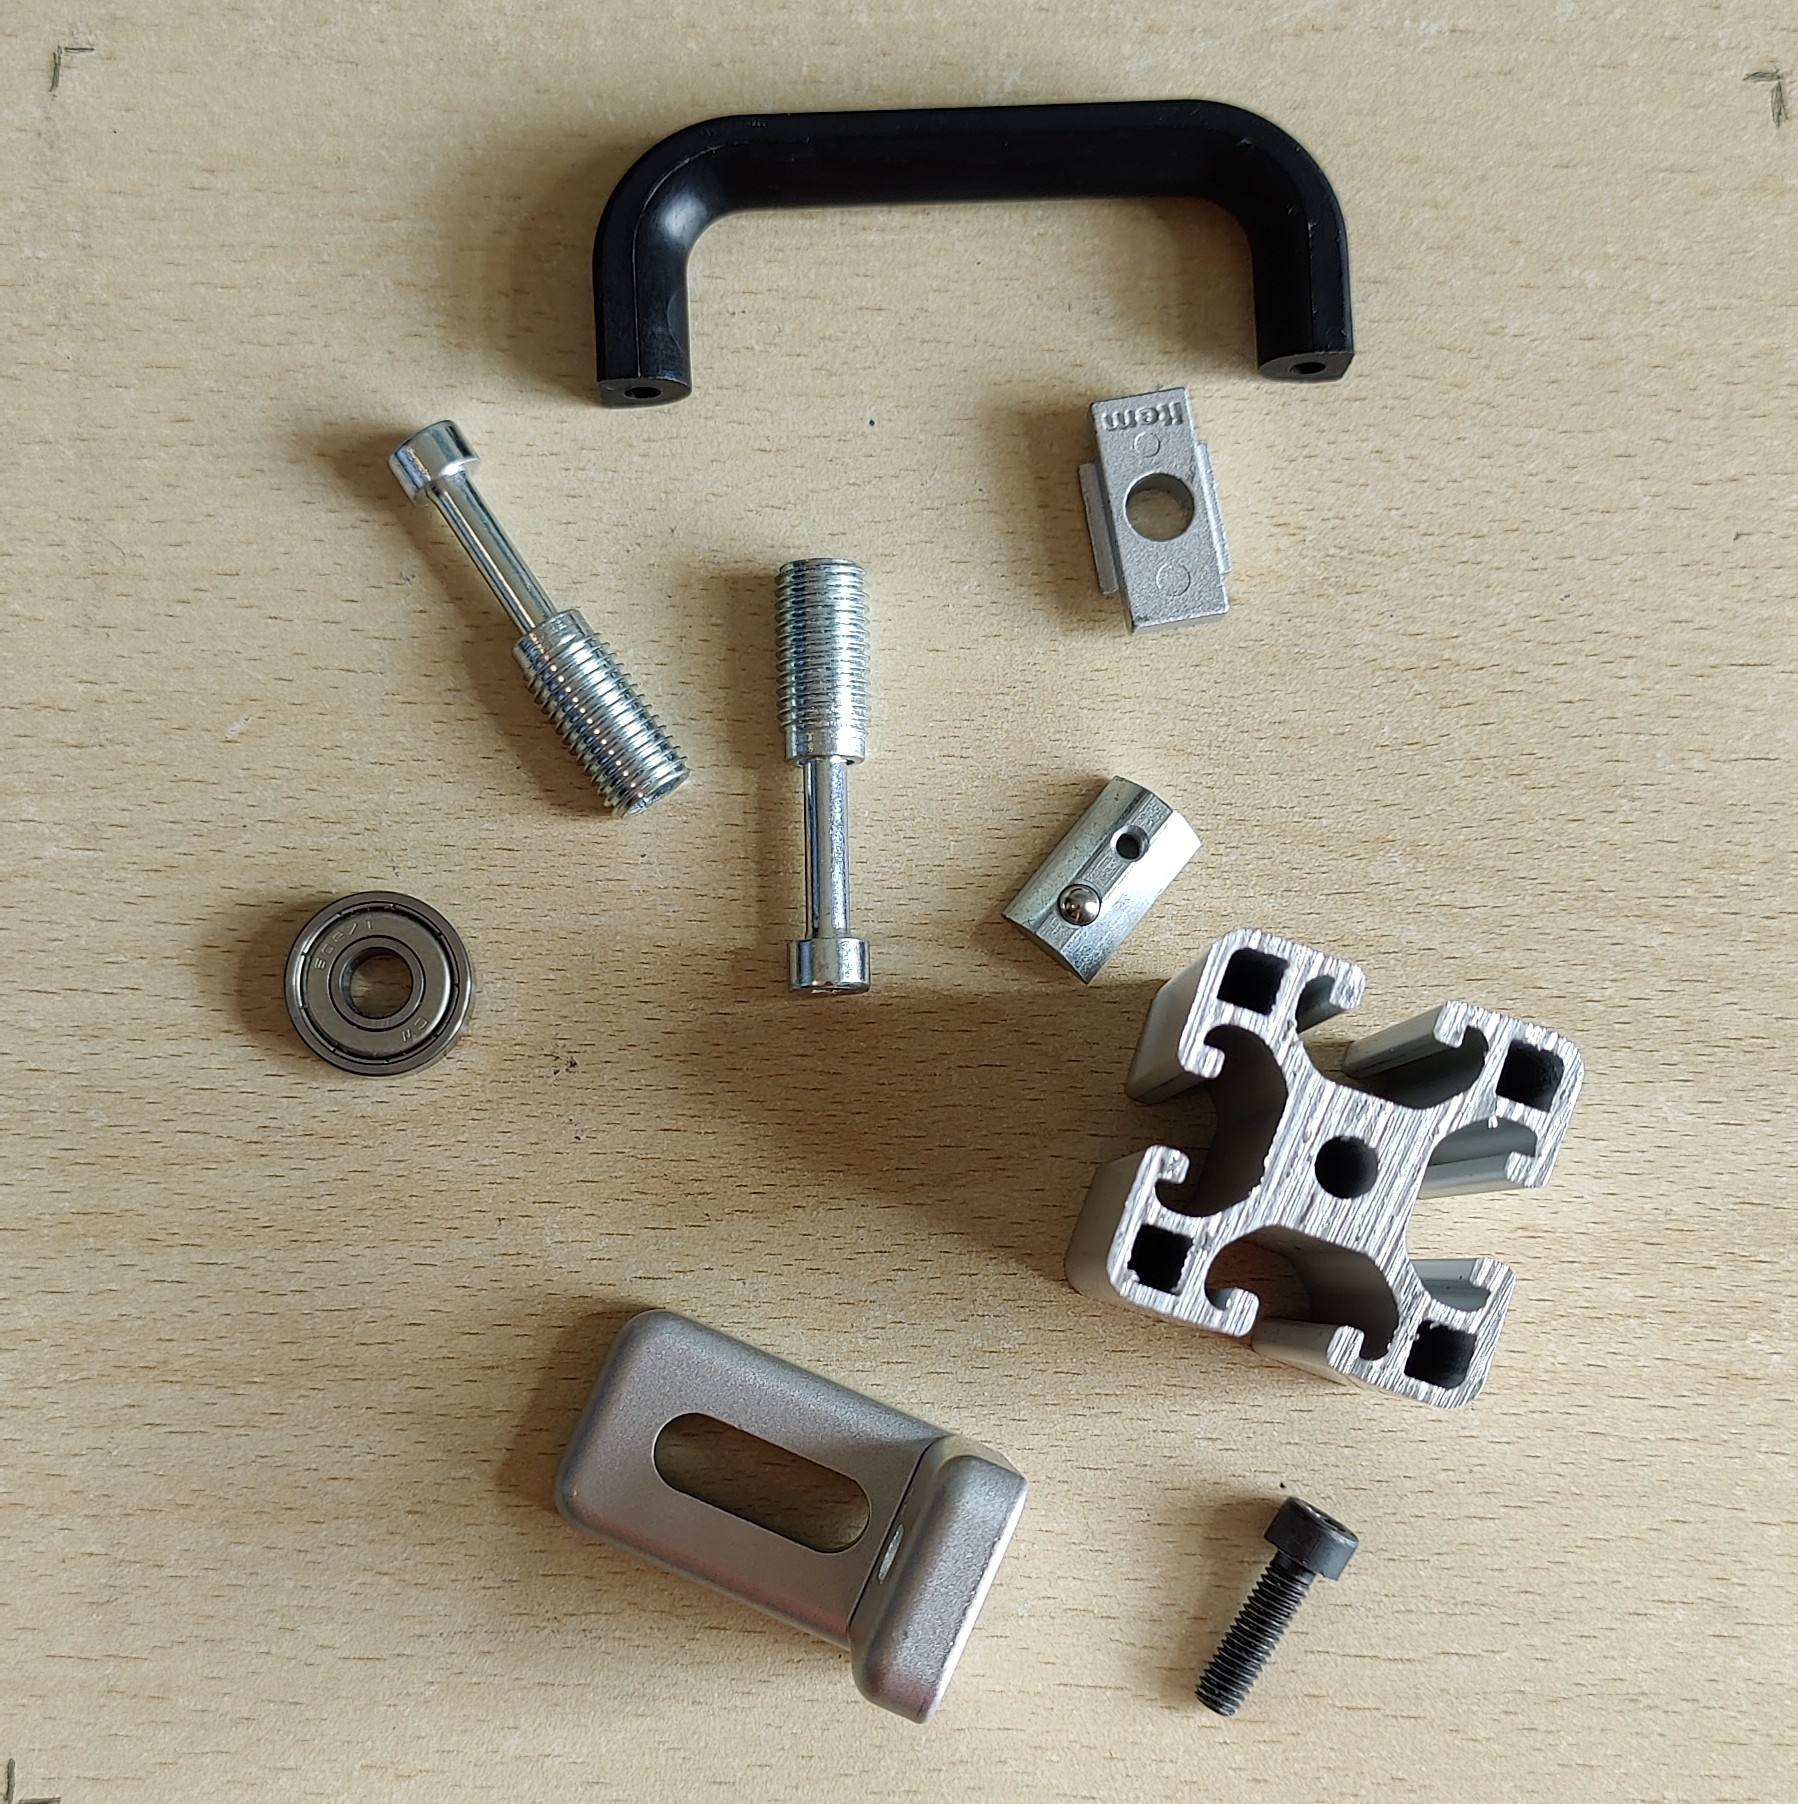Aluminium Extension: (1060, 927, 1586, 1411)
Ball Bearing: (277, 889, 477, 1081)
Multiwinkel: (548, 1304, 1032, 1732)
Pull Handle: (589, 94, 1358, 411)
Shoulder Socket Head Cap Screw: (385, 415, 695, 821), (772, 551, 876, 1002)
Socket Head Cap Screw: (1192, 1496, 1358, 1722)
T Nut Square: (1074, 380, 1232, 639)
T Spring Nut: (999, 774, 1204, 984)
